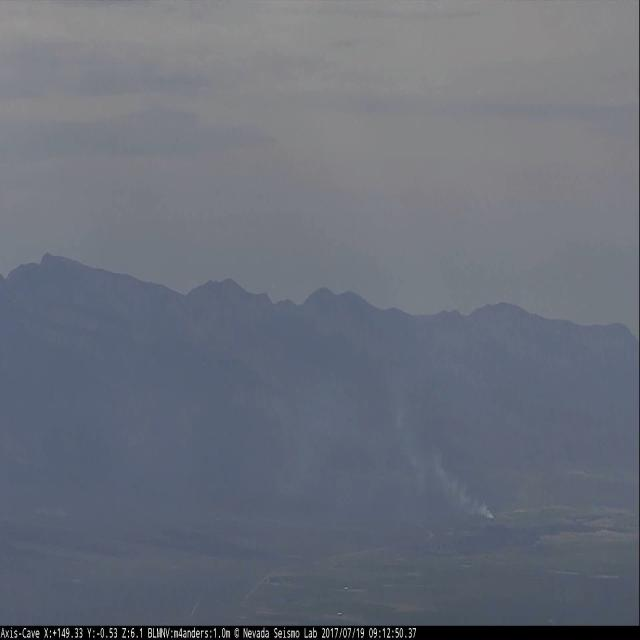smoke: (270, 374, 496, 524)
